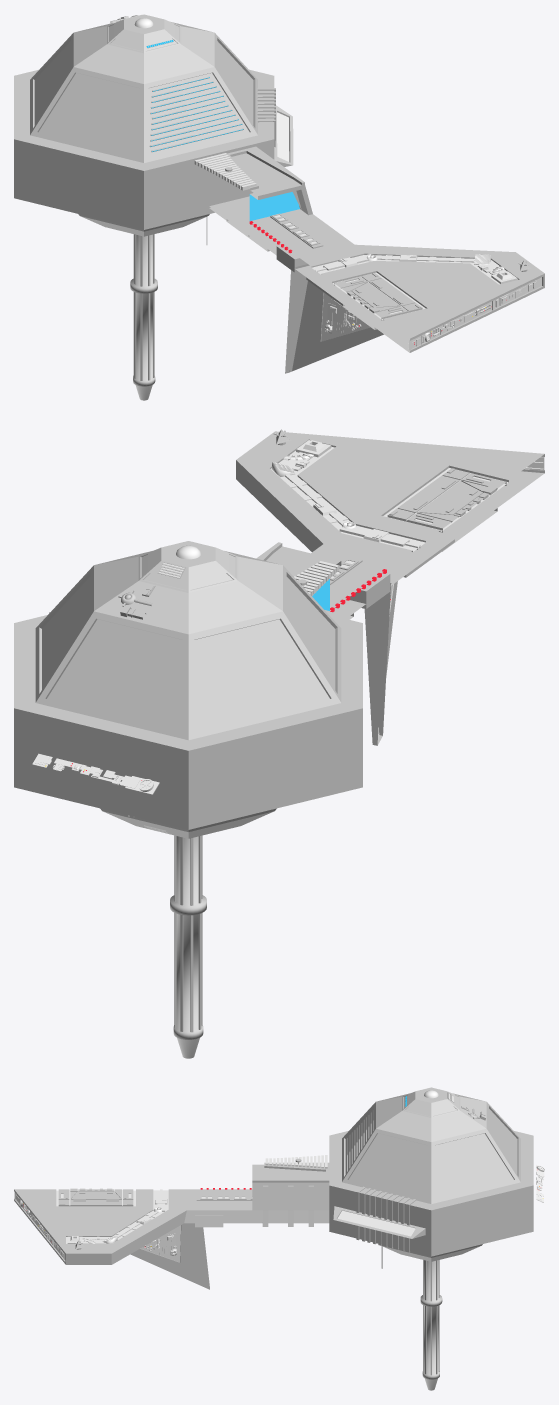
The picture shows the model from 3 angles, top to bottom: view 1: azimuth 30°, elevation 25°; view 2: azimuth 150°, elevation 25°; view 3: azimuth 270°, elevation 25°; orthographic projection. The views are drawn at different scales.
Parts seen in each view (by area): view 1: MainSection, Platforms, MainSection2, PlatformGreebles2, MainSectionGreebles, PlatformGreebles, MainSectionGreebles2; view 2: MainSection, Platforms, MainSection2, MainSectionGreebles4, PlatformGreebles2, PlatformGreebles; view 3: MainSection, Platforms, PlatformGreebles2, MainSection2, MainSectionGreebles2, MainSectionGreebles, PlatformGreebles.
Boxes of the visible parts, left/top/right/bottom form: MainSection: left=14, top=14, right=274, bottom=236; Platforms: left=209, top=146, right=544, bottom=373; MainSection2: left=130, top=18, right=157, bottom=400; PlatformGreebles2: left=209, top=88, right=536, bottom=350; MainSectionGreebles: left=110, top=15, right=243, bottom=151; PlatformGreebles: left=194, top=153, right=292, bottom=253; MainSectionGreebles2: left=274, top=105, right=293, bottom=166; MainSection: left=14, top=541, right=362, bottom=838; Platforms: left=236, top=429, right=544, bottom=745; MainSection2: left=170, top=545, right=206, bottom=1058; MainSectionGreebles4: left=32, top=753, right=159, bottom=794; PlatformGreebles2: left=49, top=456, right=544, bottom=619; PlatformGreebles: left=294, top=561, right=386, bottom=612; MainSection: left=329, top=1087, right=533, bottom=1261; Platforms: left=14, top=1162, right=329, bottom=1289; PlatformGreebles2: left=14, top=1185, right=415, bottom=1258; MainSection2: left=420, top=1090, right=442, bottom=1390; MainSectionGreebles2: left=333, top=1206, right=425, bottom=1238; MainSectionGreebles: left=347, top=1096, right=485, bottom=1171; PlatformGreebles: left=200, top=1155, right=327, bottom=1189.
Size of the model in its own units: 35.99 by 43.75 by 70.68.
